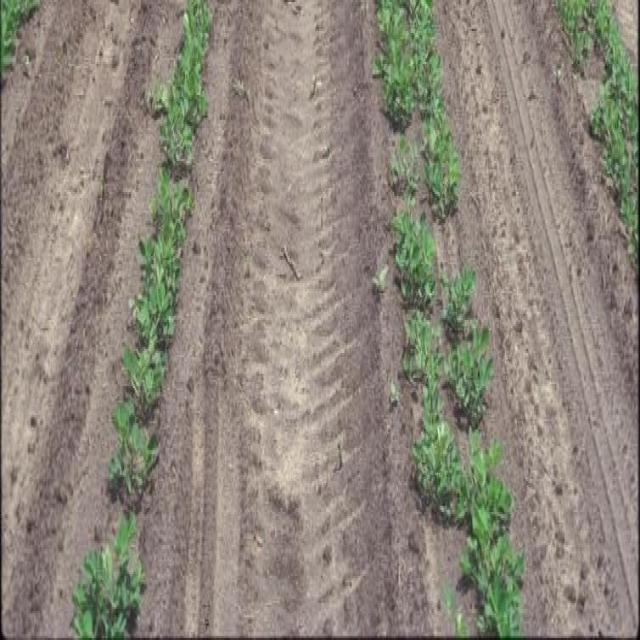row: (141, 0, 430, 638), (435, 2, 640, 637), (607, 0, 640, 77)
